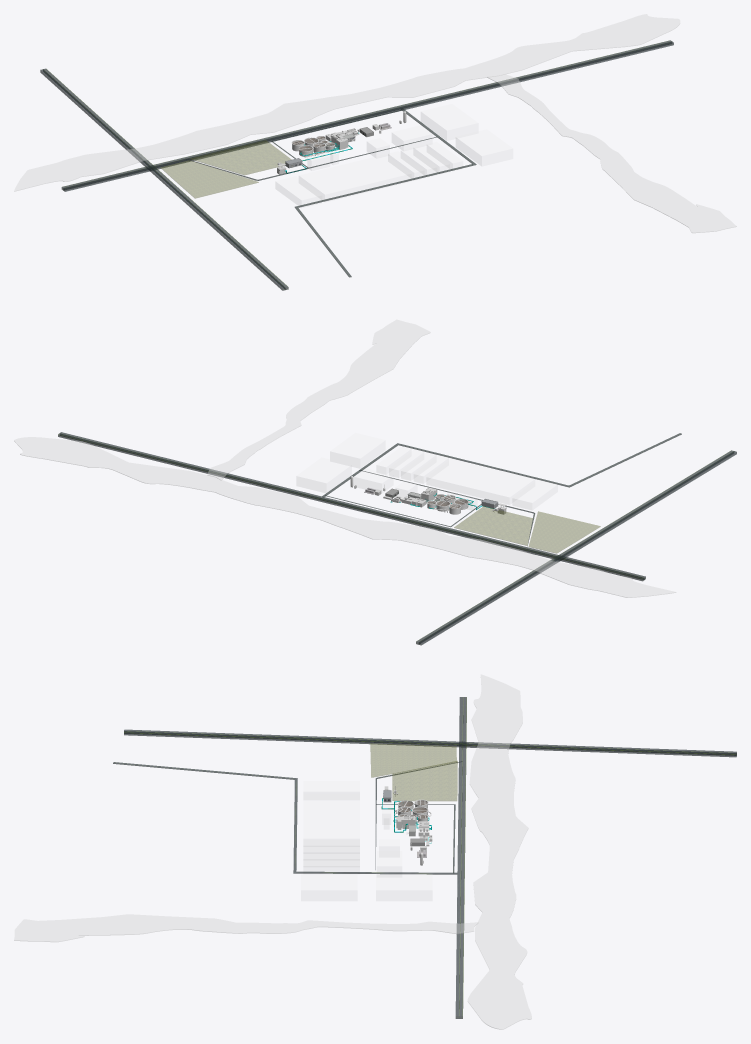
Rendered from 主场景10.gltf.
3 views of the same model, one above another, from view 1: azimuth 30°, elevation 25°; view 2: azimuth 150°, elevation 25°; view 3: azimuth 270°, elevation 25° (orthographic). The views are drawn at different scales.
Visible parts, largest first — view 1: water, 扫描.3 (×2), road (×2), 立方体.1, 扫描.1, three, 扫描, 立方体.6, 立方体.7, 立方体, 立方体.8, 生化池; view 2: water, 扫描.3 (×2), road (×2), 立方体.1, 扫描.1, three, 扫描, 立方体.7, 立方体.6, 立方体, 立方体.8, 生化池; view 3: water, 扫描.3 (×2), road (×2), 扫描, 立方体.1, three, 立方体.7, 立方体.6, 扫描.1, 立方体, 立方体.4.
Part boxes in pixels (x1=…): water: x1=14, y1=14, x2=736, y2=232; 扫描.3 (×2): x1=40, y1=41, x2=673, y2=290; road (×2): x1=161, y1=108, x2=476, y2=277; 立方体.1: x1=299, y1=155, x2=410, y2=201; 扫描.1: x1=61, y1=40, x2=671, y2=190; three: x1=190, y1=140, x2=291, y2=174; 扫描: x1=43, y1=68, x2=288, y2=289; 立方体.6: x1=456, y1=130, x2=512, y2=165; 立方体.7: x1=421, y1=104, x2=477, y2=140; 立方体: x1=276, y1=177, x2=321, y2=207; 立方体.8: x1=392, y1=126, x2=431, y2=149; 生化池: x1=291, y1=136, x2=335, y2=156; water: x1=14, y1=319, x2=676, y2=597; 扫描.3 (×2): x1=60, y1=432, x2=736, y2=645; road (×2): x1=322, y1=433, x2=681, y2=553; 立方体.1: x1=427, y1=459, x2=534, y2=504; 扫描.1: x1=58, y1=433, x2=644, y2=581; three: x1=454, y1=506, x2=532, y2=545; 扫描: x1=416, y1=450, x2=733, y2=644; 立方体.7: x1=297, y1=458, x2=351, y2=492; 立方体.6: x1=330, y1=433, x2=384, y2=467; 立方体: x1=513, y1=480, x2=557, y2=509; 立方体.8: x1=354, y1=469, x2=392, y2=492; 生化池: x1=427, y1=494, x2=468, y2=514; water: x1=14, y1=674, x2=531, y2=1029; 扫描.3 (×2): x1=124, y1=697, x2=736, y2=1018; road (×2): x1=113, y1=743, x2=457, y2=874; 扫描: x1=124, y1=731, x2=736, y2=757; 立方体.1: x1=304, y1=794, x2=359, y2=839; three: x1=392, y1=761, x2=457, y2=800; 立方体.7: x1=376, y1=874, x2=431, y2=900; 立方体.6: x1=301, y1=874, x2=356, y2=900; 扫描.1: x1=459, y1=697, x2=466, y2=1018; 立方体: x1=304, y1=781, x2=359, y2=792; 立方体.4: x1=304, y1=861, x2=359, y2=871.
Size of the model in its own units: 1124 by 33.71 by 967.
15 materials, 9 textured.
